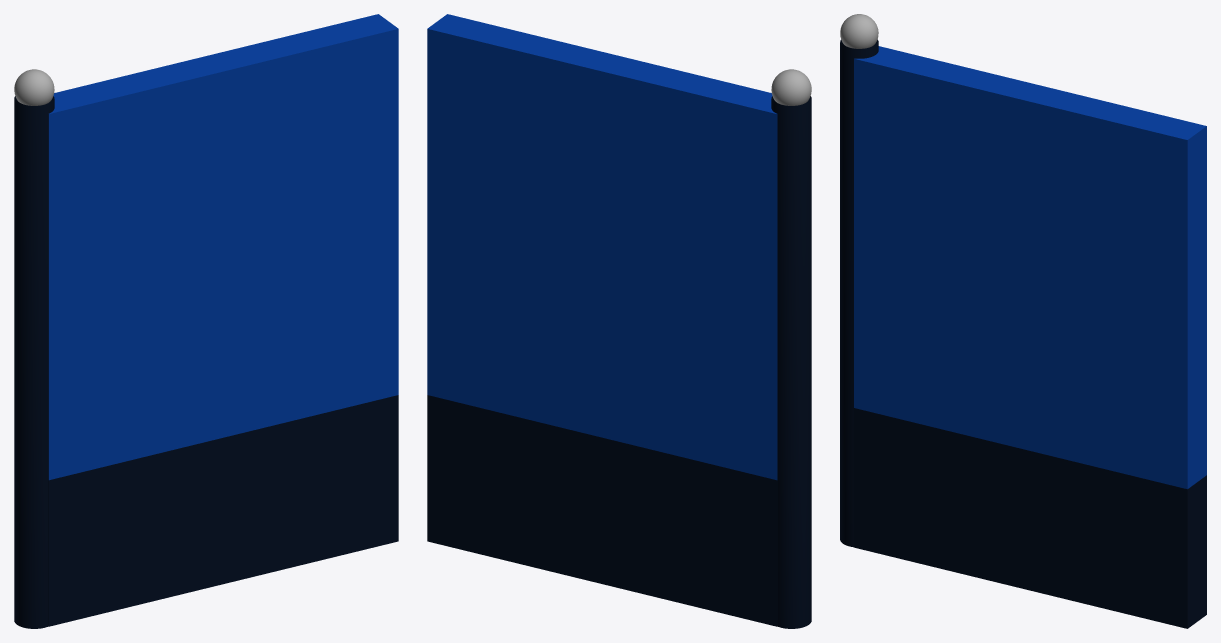
The model's file is STATION_NAMEPLATE_MODELING.glb.
3 renders of one model, left to right at view 1: azimuth 30°, elevation 25°; view 2: azimuth 150°, elevation 25°; view 3: azimuth 330°, elevation 25°, orthographic. The views are drawn at different scales.
Parts seen in each view (by area): view 1: Cube, Cube.001, Cylinder, Sphere; view 2: Cube, Cube.001, Cylinder, Sphere; view 3: Cube, Cube.001, Cylinder, Sphere.
Part boxes in pixels (left/top/right/bottom): Cube: left=48, top=14, right=398, bottom=480; Cube.001: left=48, top=395, right=398, bottom=626; Cylinder: left=14, top=96, right=54, bottom=628; Sphere: left=14, top=69, right=54, bottom=105; Cube: left=427, top=14, right=777, bottom=480; Cube.001: left=427, top=395, right=777, bottom=626; Cylinder: left=771, top=96, right=811, bottom=628; Sphere: left=771, top=69, right=811, bottom=105; Cube: left=854, top=46, right=1206, bottom=489; Cube.001: left=854, top=408, right=1206, bottom=628; Cylinder: left=840, top=39, right=878, bottom=547; Sphere: left=840, top=14, right=878, bottom=48.
Bounding box in the file's own units: 2.13 × 3 × 0.2.
